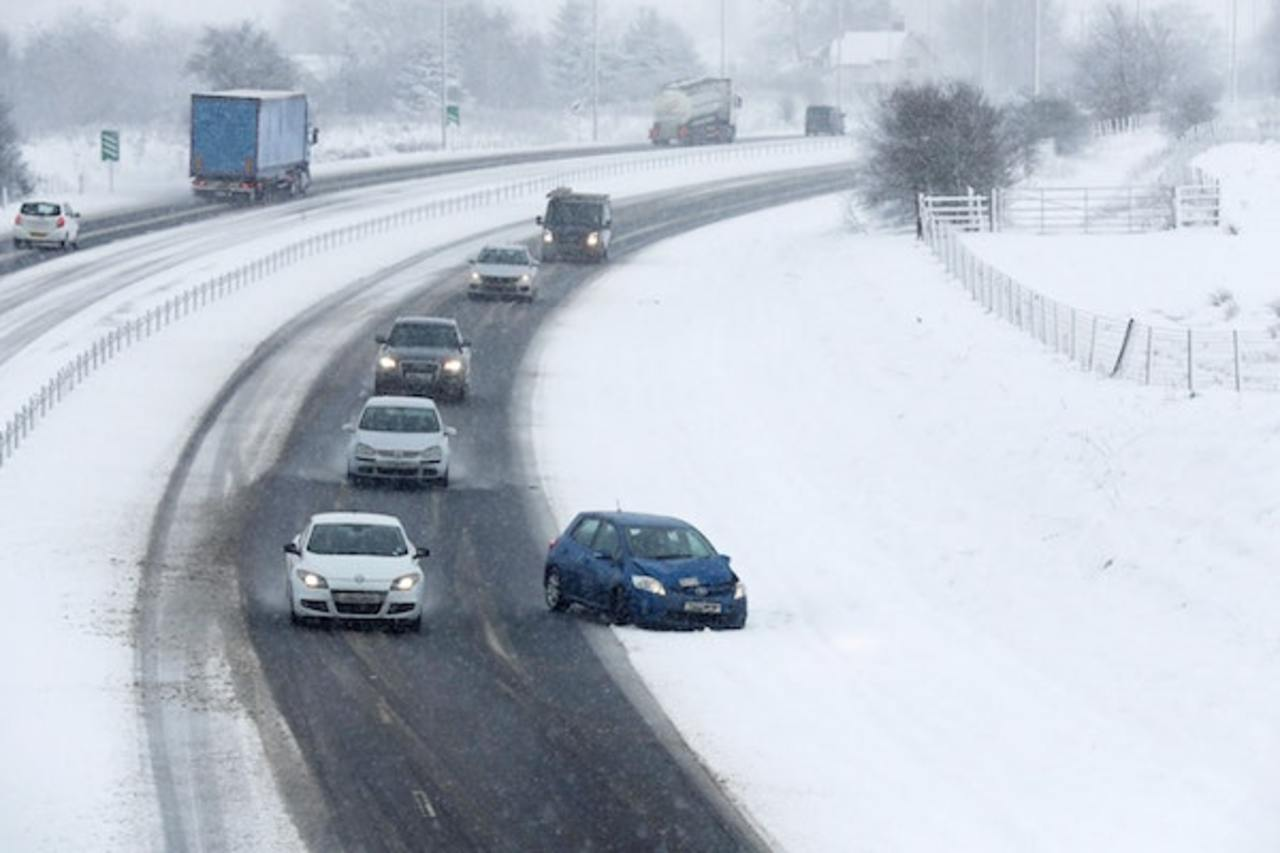car: (541, 506, 746, 632), (283, 511, 431, 631), (349, 397, 457, 488), (372, 315, 471, 404), (538, 188, 614, 264), (468, 242, 540, 300), (13, 200, 79, 251), (803, 105, 845, 136)
truck: (190, 88, 317, 203), (647, 73, 742, 143)
